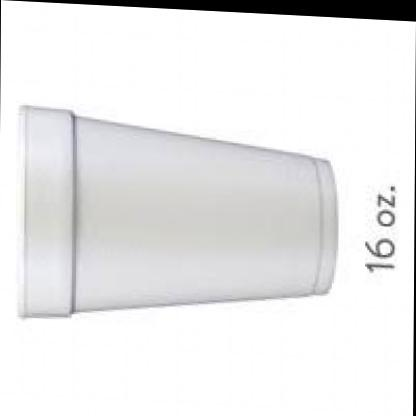trash: (21, 106, 336, 315)
